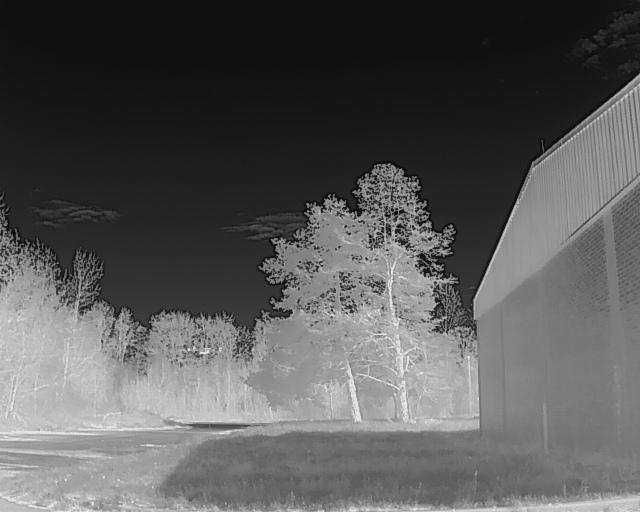drone: (181, 342, 227, 367)
